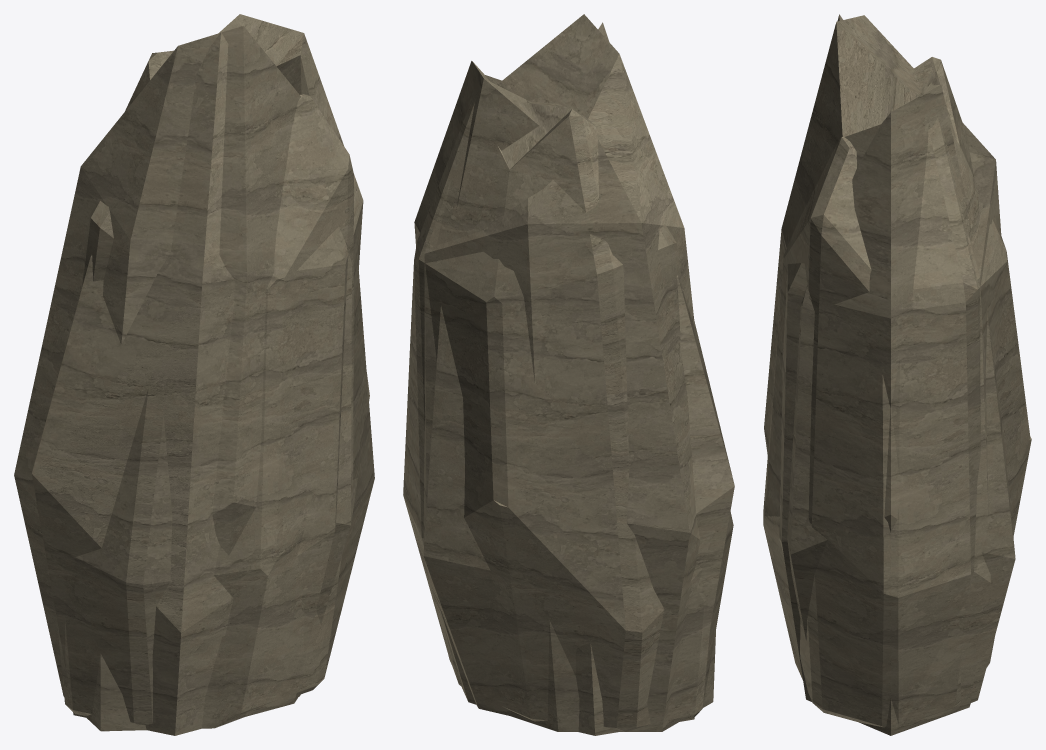
Rendered from env_rock_slab_c_v001.glb.
3 renders of one model, left to right at view 1: azimuth 30°, elevation 25°; view 2: azimuth 150°, elevation 25°; view 3: azimuth 270°, elevation 25°, orthographic. The views are drawn at different scales.
Visible parts, largest first — view 1: env_rock_slab_c_LOD2_mesh, env_rock_slab_c_LOD0_mesh, env_rock_slab_c_LOD1_mesh; view 2: env_rock_slab_c_LOD0_mesh, env_rock_slab_c_LOD1_mesh, env_rock_slab_c_LOD2_mesh; view 3: env_rock_slab_c_LOD0_mesh, env_rock_slab_c_LOD2_mesh, env_rock_slab_c_LOD1_mesh.
Part boxes in pixels (x1,y1,x2,y2): env_rock_slab_c_LOD2_mesh: (32,14,363,735); env_rock_slab_c_LOD0_mesh: (57,50,374,725); env_rock_slab_c_LOD1_mesh: (14,26,369,731); env_rock_slab_c_LOD0_mesh: (403,102,733,731); env_rock_slab_c_LOD1_mesh: (423,14,715,731); env_rock_slab_c_LOD2_mesh: (414,22,734,735); env_rock_slab_c_LOD0_mesh: (763,57,1031,727); env_rock_slab_c_LOD2_mesh: (779,14,1015,733); env_rock_slab_c_LOD1_mesh: (764,15,1001,735).
Size of the model in its own units: 1.72 by 3.26 by 1.2.
3 materials, 3 textured.
